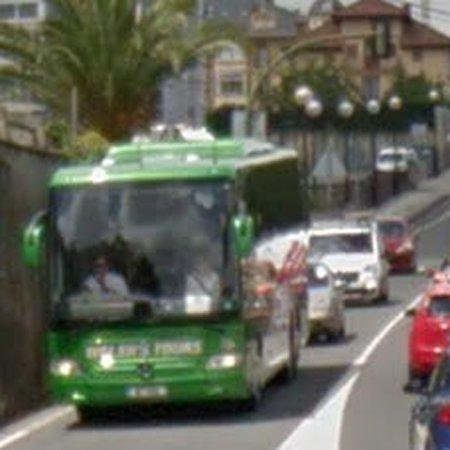buses: (49, 139, 309, 419)
